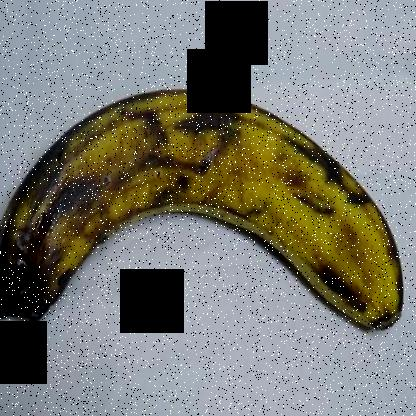overripe: (1, 66, 411, 358)
rotten: (1, 113, 108, 323)
